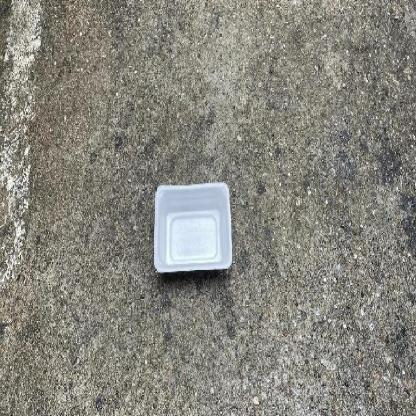Glass Cup: (154, 181, 232, 273), (154, 183, 232, 273)
